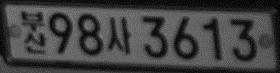1: (201, 16, 228, 60)
3: (141, 15, 168, 58), (230, 18, 257, 61)
6: (172, 15, 199, 59)
8: (76, 13, 104, 55)
9: (48, 12, 73, 54)
부산_V: (21, 10, 47, 54)
사: (107, 16, 133, 55)
